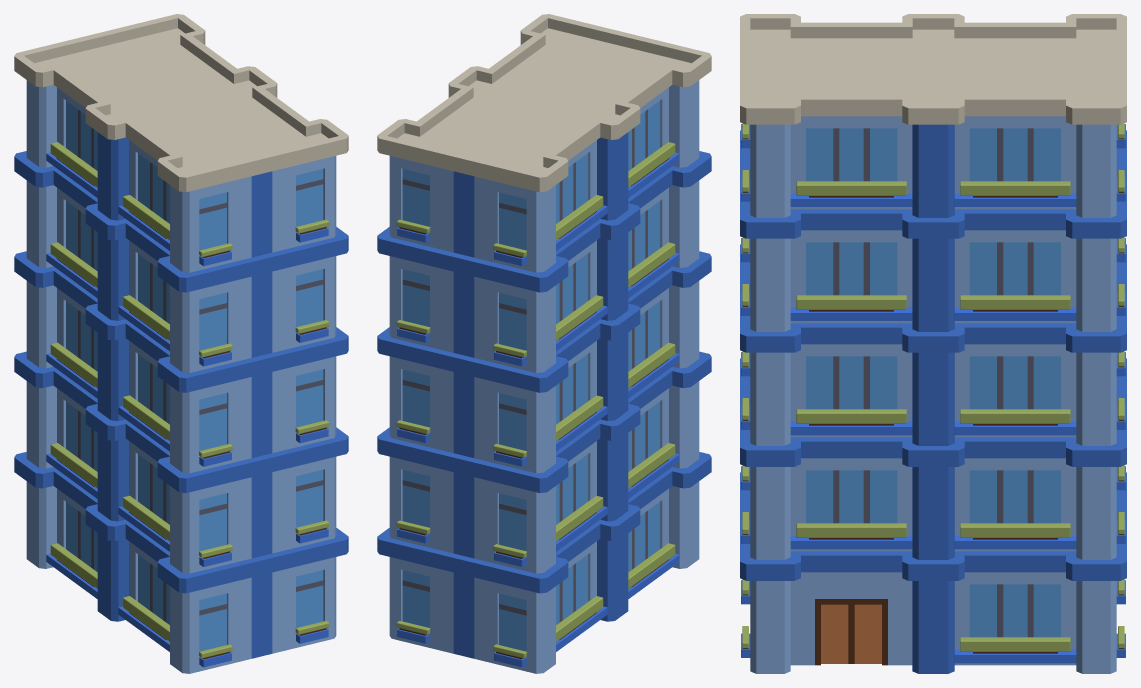
3 renders of one model, left to right at view 1: azimuth 30°, elevation 25°; view 2: azimuth 150°, elevation 25°; view 3: azimuth 270°, elevation 25°, orthographic. The views are drawn at different scales.
Visible parts, largest first — view 1: Predio 2.001; view 2: Predio 2.001; view 3: Predio 2.001.
Boxes of the visible parts, box(x1,y1,x2,y2) form: Predio 2.001: box(14, 14, 348, 673); Predio 2.001: box(377, 14, 711, 673); Predio 2.001: box(740, 14, 1126, 673).
Bounding box in the file's own units: 3541 × 9992 × 6145.
